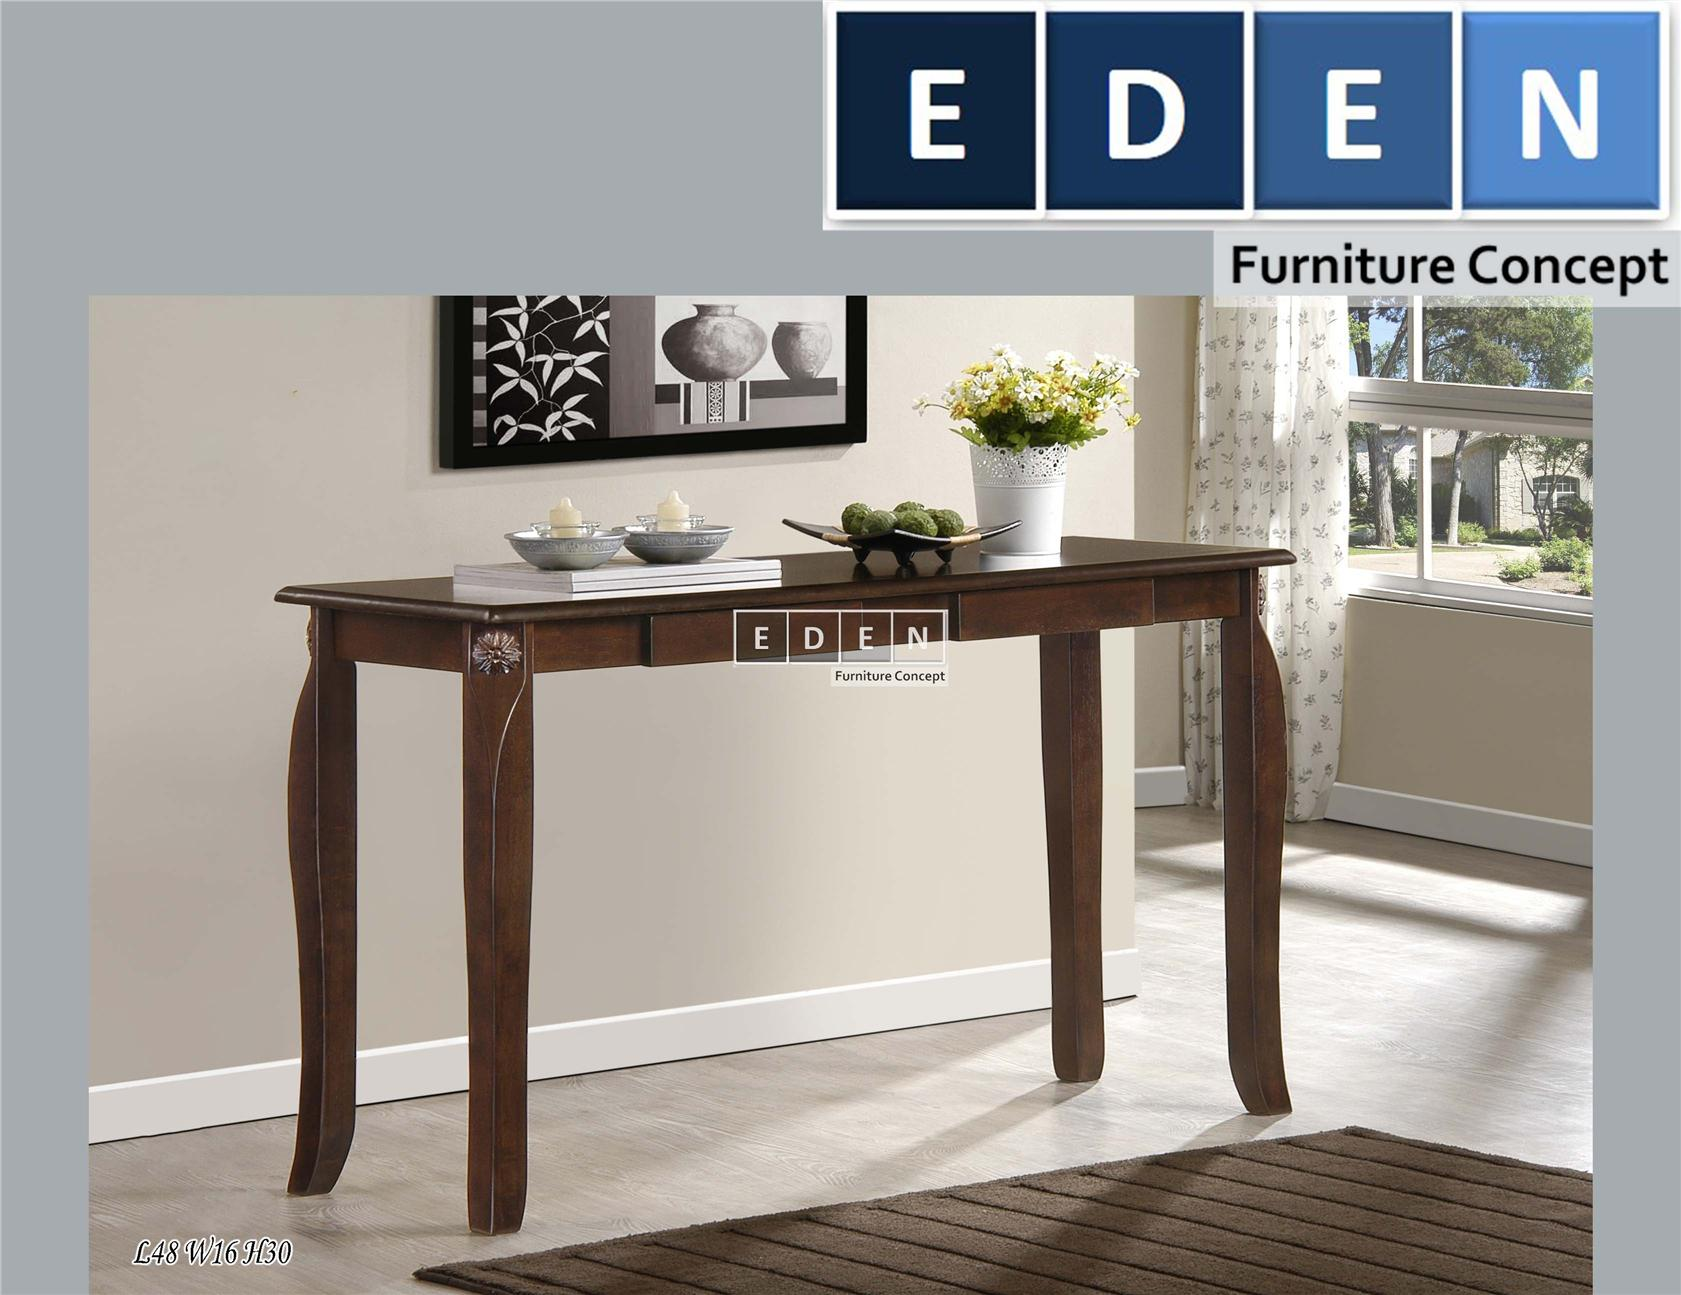Carving Table: (262, 498, 1321, 1204)
